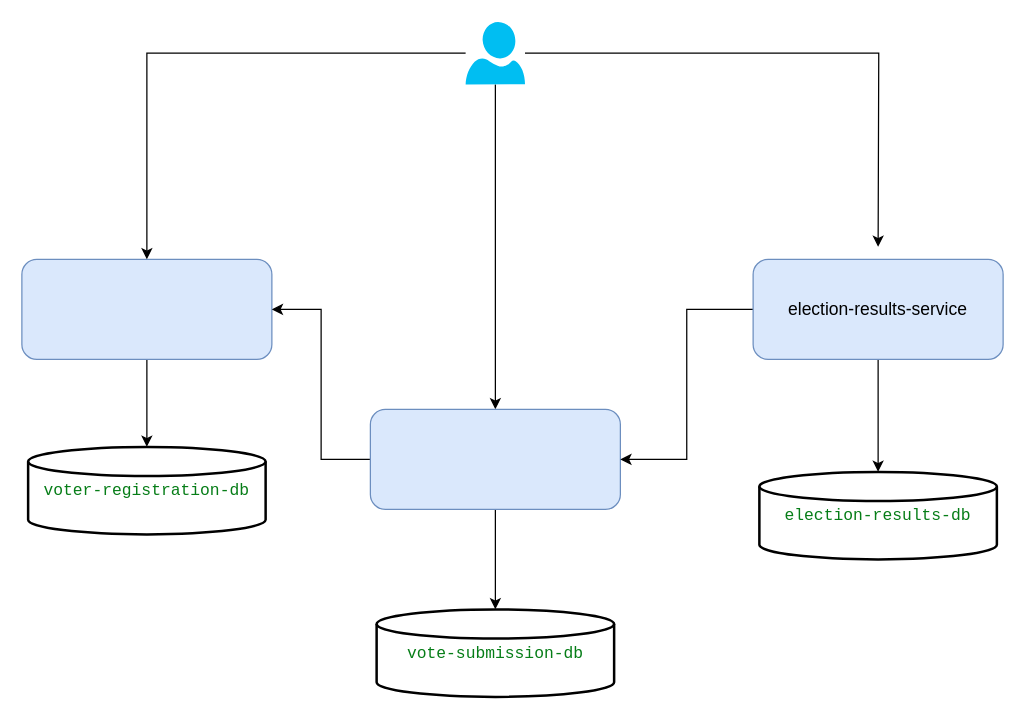
The diagram is 1025 pixels wide and 719 high, and some of its shapes have lost their labels. The box of each missing label's shape, as (x1, y1, x2, y2) in pixels:
vote-submission: (369, 408, 620, 509)
voter-registration: (21, 258, 272, 359)
